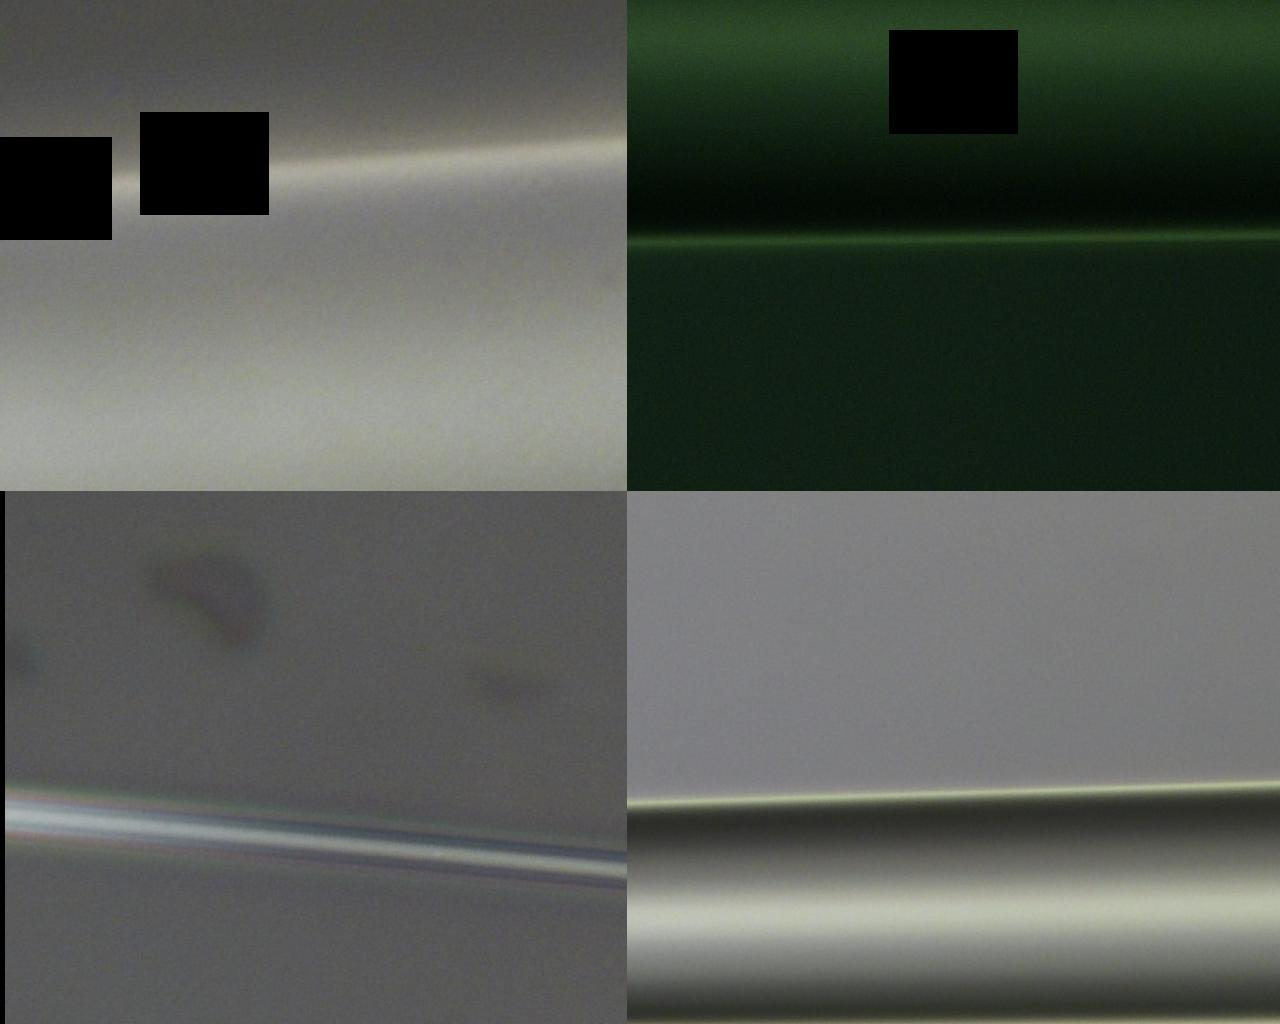fiber: (10, 0, 231, 675), (326, 675, 690, 1024)
